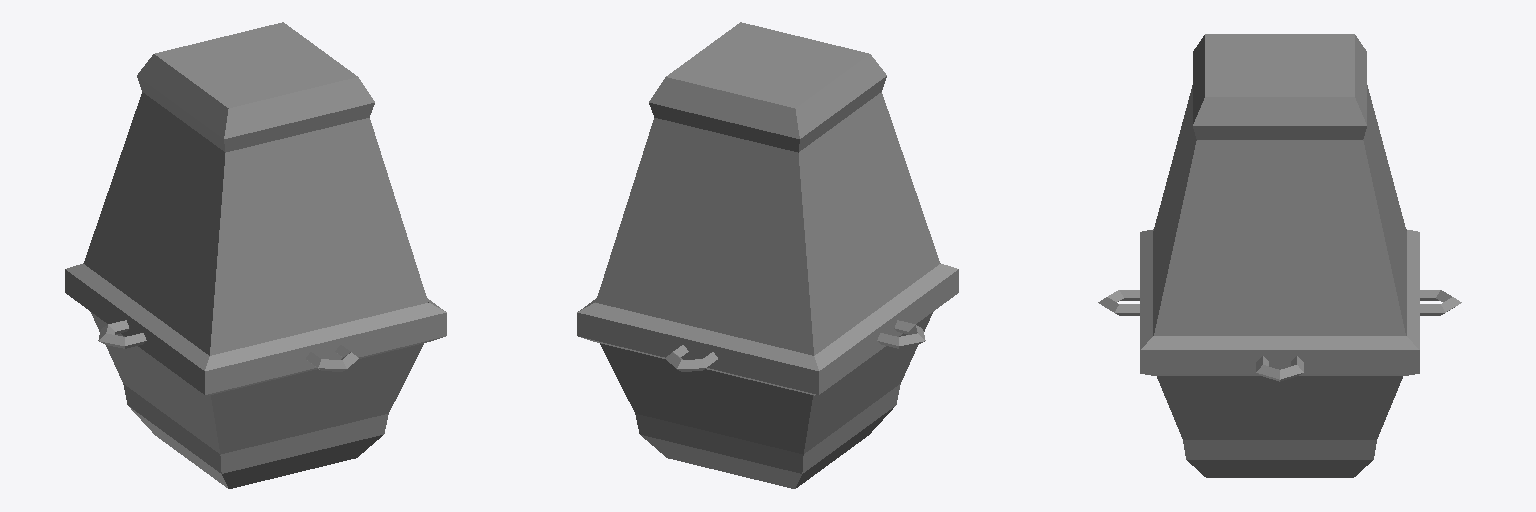
The model's file is Monolith.obj.
The picture shows the model from 3 angles: view 1: azimuth 30°, elevation 25°; view 2: azimuth 150°, elevation 25°; view 3: azimuth 270°, elevation 25°; orthographic projection.
Parts seen in each view (by area): view 1: Palette; view 2: Palette; view 3: Palette.
Part boxes in pixels (x1,y1,x2,y2): Palette: (65,22,446,488); Palette: (577,22,958,488); Palette: (1098,34,1461,477).
Size of the model in its own units: 4.18 by 4.82 by 4.18.